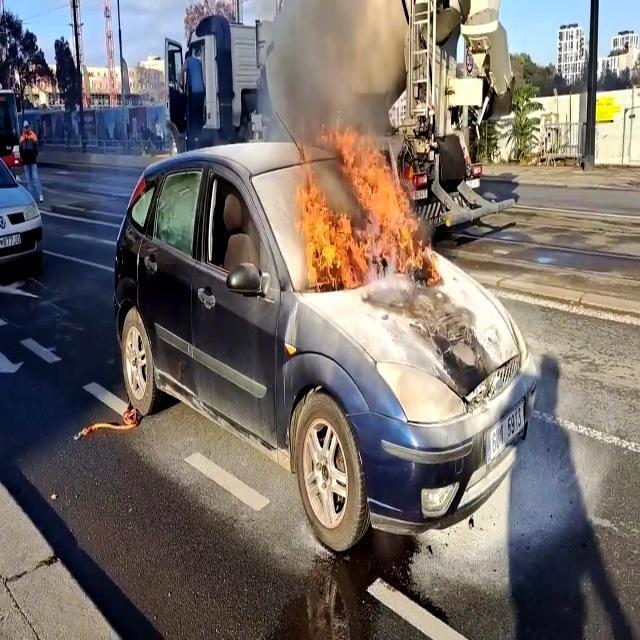Fire: (288, 124, 436, 314)
Smoke: (263, 0, 412, 165)
